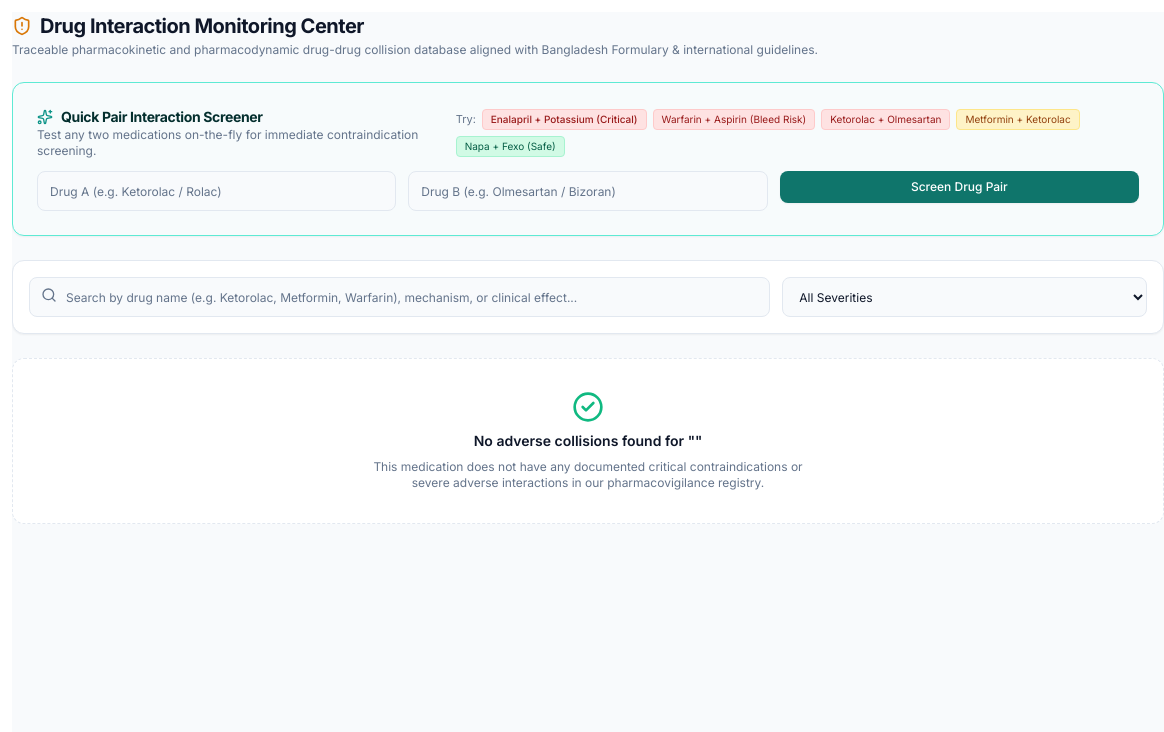
it: DrugInteractionPage › screens Enalapril + Potassium Supplements as CRITICAL interaction
This screenshot has width=1164, height=732.
Type "Enalapril" into the field with placeholder "Drug A (e.g. Ketorolac / Rolac)". click: (217, 191)
box: [37, 171, 396, 211]
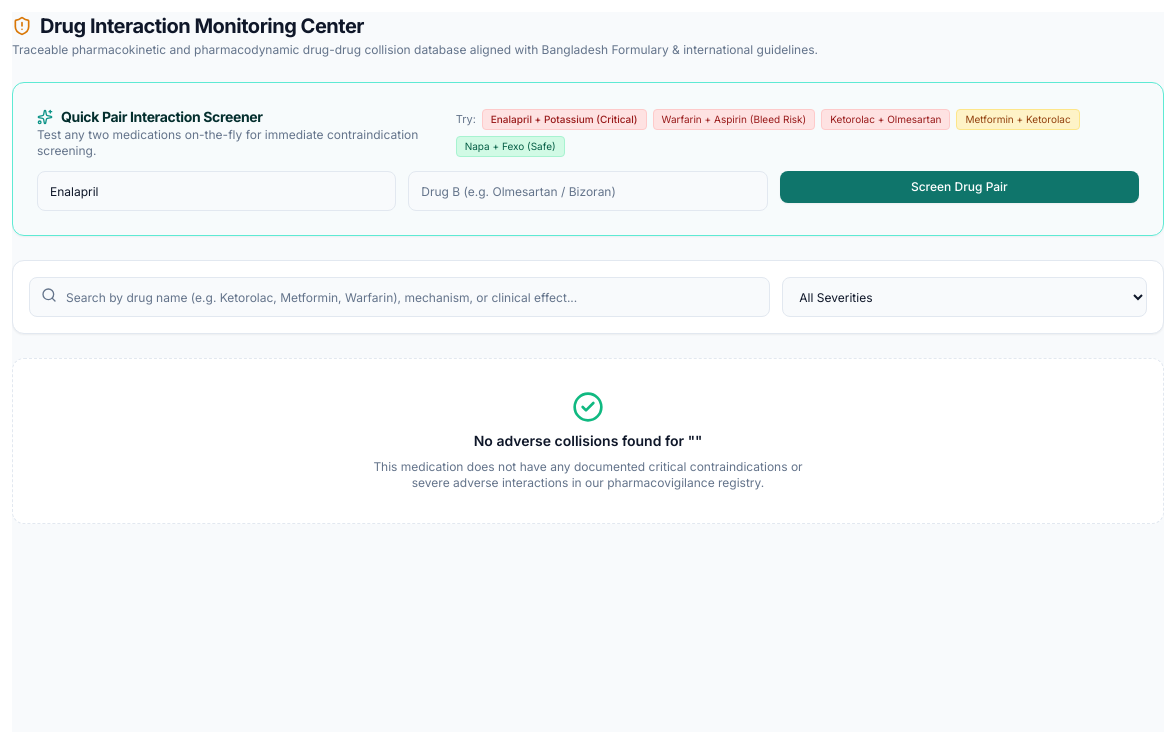
Type "Potassium Supplements" into the field with placeholder "Drug B (e.g. Olmesartan / Bizoran)". click: (588, 191)
box: [408, 171, 768, 211]
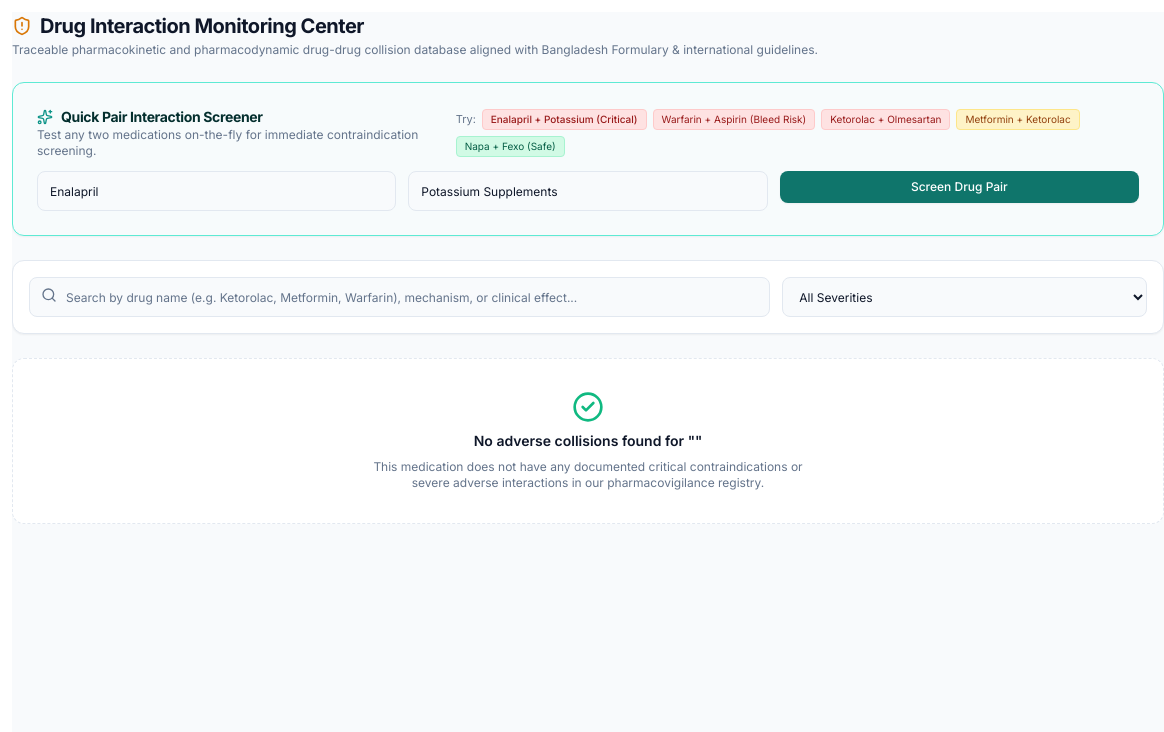
Click the button "Screen Drug Pair". click: (959, 187)
box: [780, 171, 1139, 203]
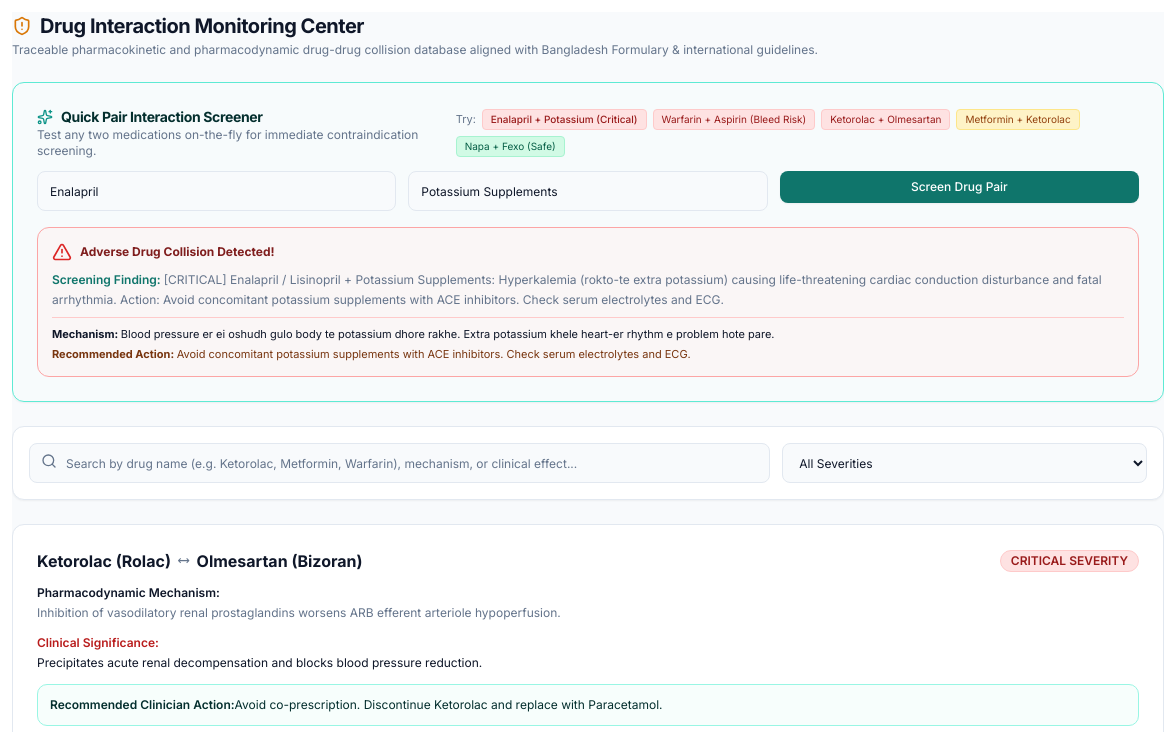
Check: the button "Enalapril + Potassium (Critical)" is shown, box [482, 109, 646, 130]
Check: the text "Screening Finding:" is shown, box [52, 272, 164, 287]
Check: the text "Hyperkalemia" is shown, box [52, 272, 1102, 306]
